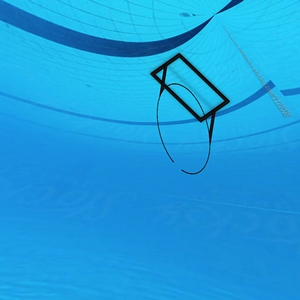circle: (147, 51, 232, 178)
